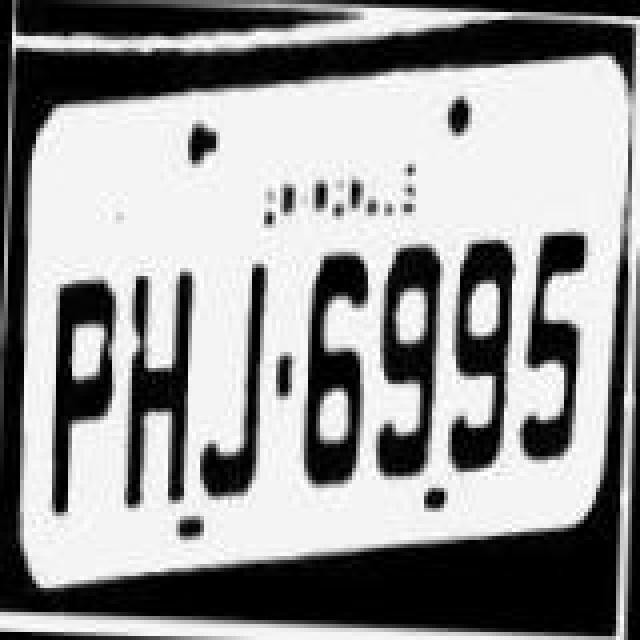5: (520, 218, 600, 478)
6: (292, 242, 376, 498)
9: (442, 234, 530, 478), (368, 242, 452, 490)
H: (116, 244, 200, 512)
J: (186, 244, 274, 504)
P: (36, 260, 120, 524)
